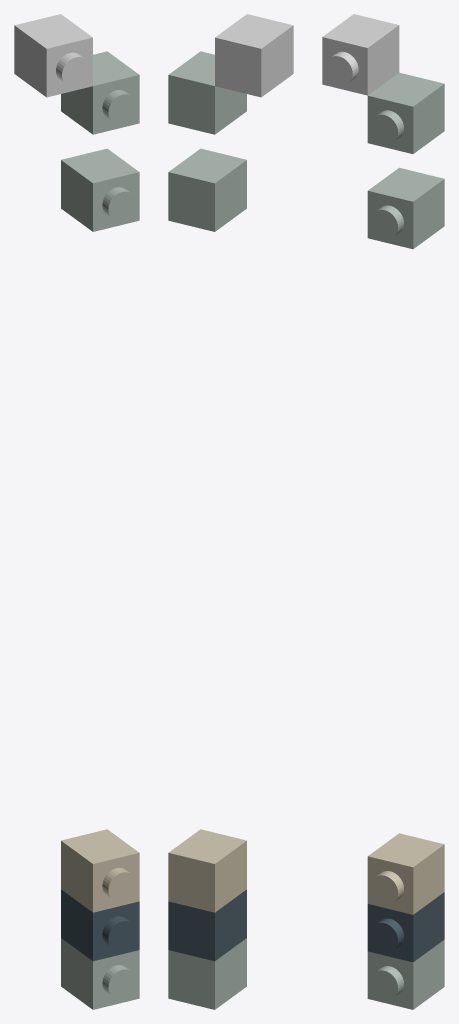
The model's file is current.glb.
The picture shows the model from 3 angles, left to right: view 1: azimuth 30°, elevation 25°; view 2: azimuth 150°, elevation 25°; view 3: azimuth 330°, elevation 25°; orthographic projection. The views are drawn at different scales.
Visible parts, largest first — view 1: world; view 2: world; view 3: world.
Part boxes in pixels (<box>): world: <box>14,14,139,1009</box>; world: <box>168,14,293,1009</box>; world: <box>322,14,444,1009</box>.
Bounding box in the file's own units: 16 × 160 × 11.4.
